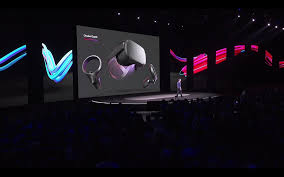oculus: (116, 40, 149, 71)
